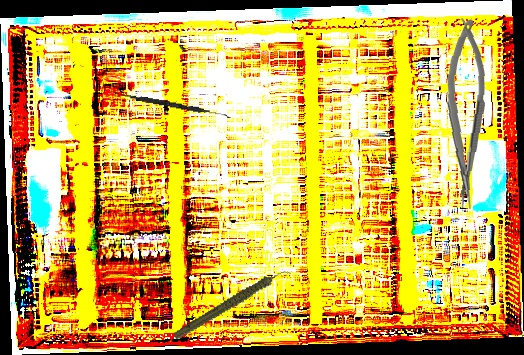Handpiece: (164, 267, 301, 342)
Needle Holder: (440, 17, 490, 210)
Spatula Surgical: (114, 91, 232, 119)
